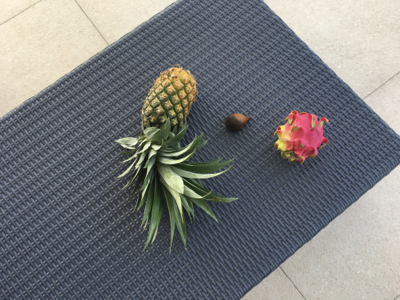dragon fruit: (274, 111, 330, 166)
pineapple: (115, 67, 238, 248)
snake fruit: (226, 111, 252, 132)
